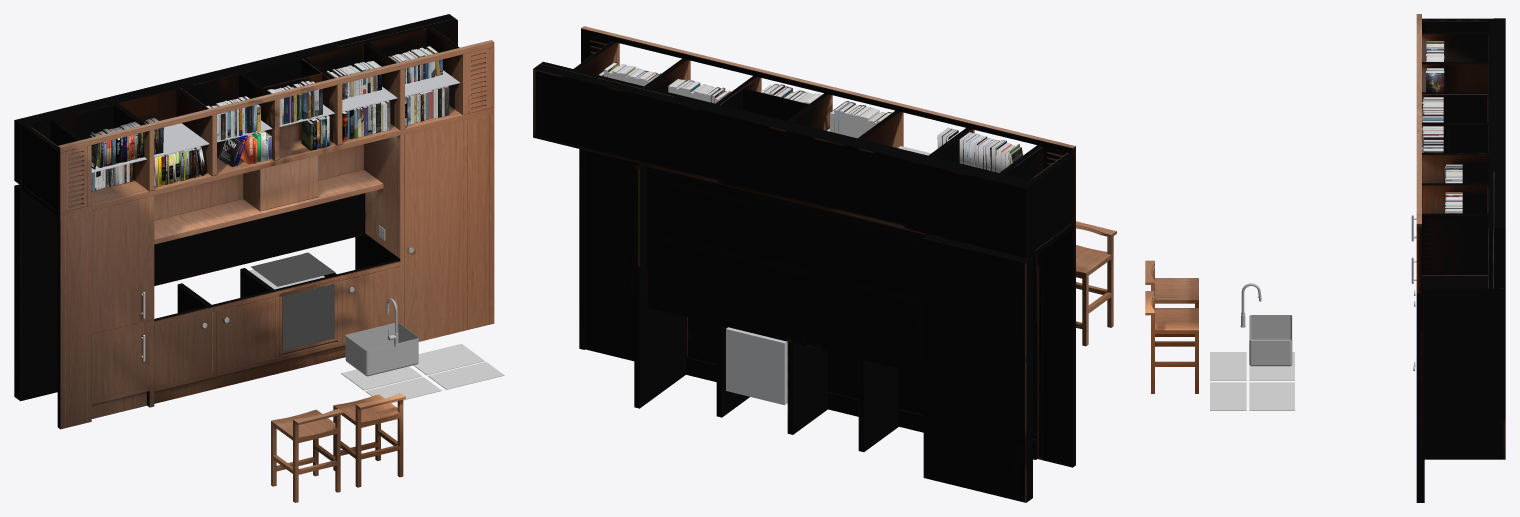
Rendered from Kitchen.glb.
3 views of the same model, side by side, from view 1: azimuth 30°, elevation 25°; view 2: azimuth 150°, elevation 25°; view 3: azimuth 270°, elevation 25° (orthographic). The views are drawn at different scales.
Visible parts, largest first — view 1: Interior_Wood_Kitchen_Bed1.001, Alumininum_Kitchen.001, Table.001, White_Kitchen.001, Twenty books.001, Sixteen books.001, Books_30_A_Object.001, Books_30_C_Object.001, Books_30_D_Object.001, Books_30_B_Object.001, Books_40_C_Object.001, Books_40_D_Object.001 (+2 smaller); view 2: Interior_Wood_Kitchen_Bed1.001, Alumininum_Kitchen.001, Table.001, Twenty books.001, Books_30_C_Object.001, Books_40_C_Object.001, Books_40_D_Object.001; view 3: Interior_Wood_Kitchen_Bed1.001, White_Kitchen.001, Table.001, Alumininum_Kitchen.001, Twenty books.001, Books_30_D_Object.001, Books_30_C_Object.001.
Boxes of the visible parts, x1=… form: Interior_Wood_Kitchen_Bed1.001: x1=14, y1=14, x2=494, y2=429; Alumininum_Kitchen.001: x1=91, y1=70, x2=459, y2=376; Table.001: x1=271, y1=393, x2=405, y2=502; White_Kitchen.001: x1=341, y1=225, x2=504, y2=403; Twenty books.001: x1=89, y1=118, x2=163, y2=169; Sixteen books.001: x1=154, y1=146, x2=206, y2=186; Books_30_A_Object.001: x1=342, y1=100, x2=390, y2=140; Books_30_C_Object.001: x1=206, y1=96, x2=260, y2=140; Books_30_D_Object.001: x1=267, y1=81, x2=322, y2=125; Books_30_B_Object.001: x1=405, y1=86, x2=449, y2=125; Books_40_C_Object.001: x1=326, y1=61, x2=381, y2=99; Books_40_D_Object.001: x1=388, y1=46, x2=442, y2=83; Interior_Wood_Kitchen_Bed1.001: x1=533, y1=26, x2=1075, y2=502; Alumininum_Kitchen.001: x1=726, y1=128, x2=930, y2=405; Table.001: x1=1076, y1=221, x2=1116, y2=346; Twenty books.001: x1=937, y1=127, x2=1022, y2=172; Books_30_C_Object.001: x1=830, y1=101, x2=891, y2=138; Books_40_C_Object.001: x1=668, y1=79, x2=730, y2=103; Books_40_D_Object.001: x1=598, y1=62, x2=660, y2=86; Interior_Wood_Kitchen_Bed1.001: x1=1416, y1=14, x2=1505, y2=502; White_Kitchen.001: x1=1210, y1=352, x2=1294, y2=410; Table.001: x1=1145, y1=260, x2=1198, y2=393; Alumininum_Kitchen.001: x1=1240, y1=215, x2=1416, y2=370; Twenty books.001: x1=1426, y1=41, x2=1444, y2=92; Books_30_D_Object.001: x1=1422, y1=126, x2=1443, y2=152; Books_30_C_Object.001: x1=1422, y1=97, x2=1443, y2=122.
Bounding box in the file's own units: 1.88 × 1.2 × 1.36.
33 materials, 27 textured.
